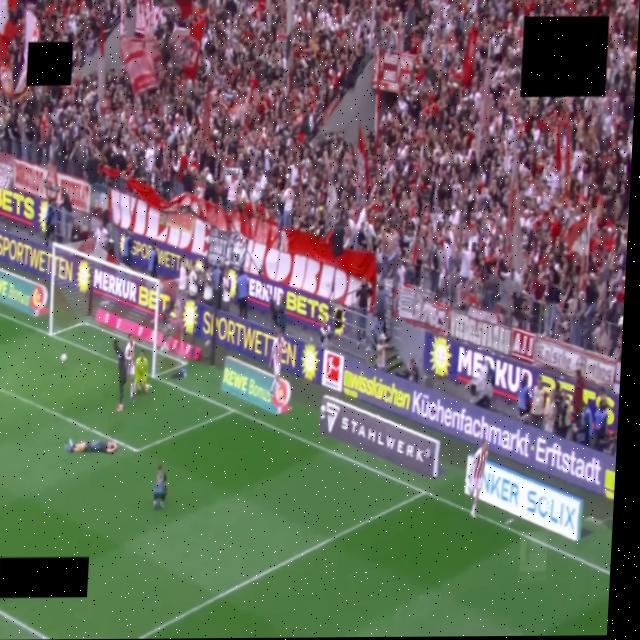ball: (61, 353, 66, 362)
player: (467, 441, 487, 517), (113, 340, 127, 411), (271, 330, 285, 396), (66, 439, 117, 454), (134, 351, 150, 393), (153, 465, 167, 509), (125, 335, 134, 379)
